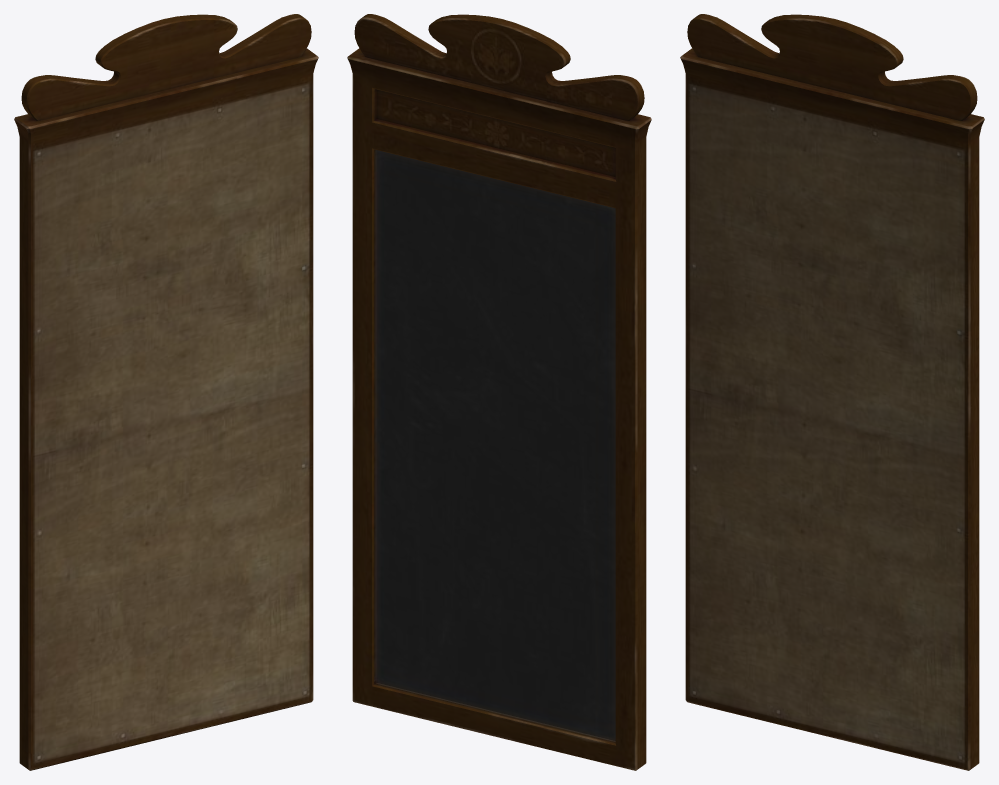
Rendered from mirror-cheval.glb.
3 renders of one model, left to right at view 1: azimuth 30°, elevation 25°; view 2: azimuth 150°, elevation 25°; view 3: azimuth 330°, elevation 25°, orthographic.
Visible parts, largest first — view 1: mirror-cheval; view 2: mirror-cheval; view 3: mirror-cheval.
Boxes of the visible parts, <box> form: mirror-cheval: <box>14,14,318,770</box>; mirror-cheval: <box>347,14,651,770</box>; mirror-cheval: <box>680,14,984,770</box>.
Size of the model in its own units: 0.8103 by 1.89 by 0.0715.
1 material, 1 textured.
